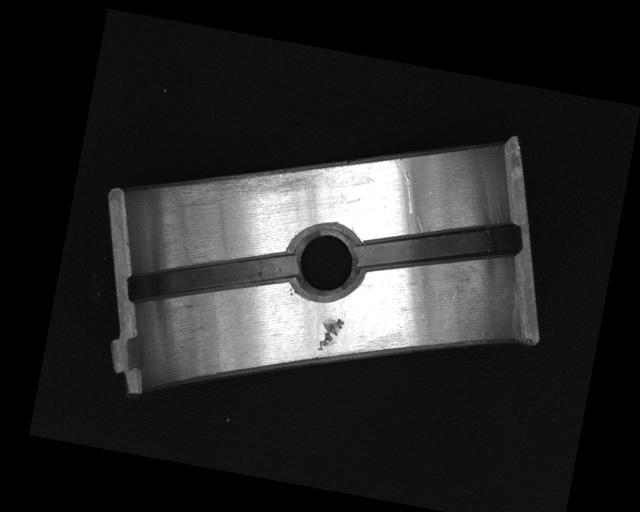bruise: (315, 314, 345, 356)
gap: (127, 224, 298, 331), (354, 198, 524, 295)
hole: (282, 220, 371, 305)
nick: (385, 156, 420, 214)
scratch: (165, 129, 379, 246)
